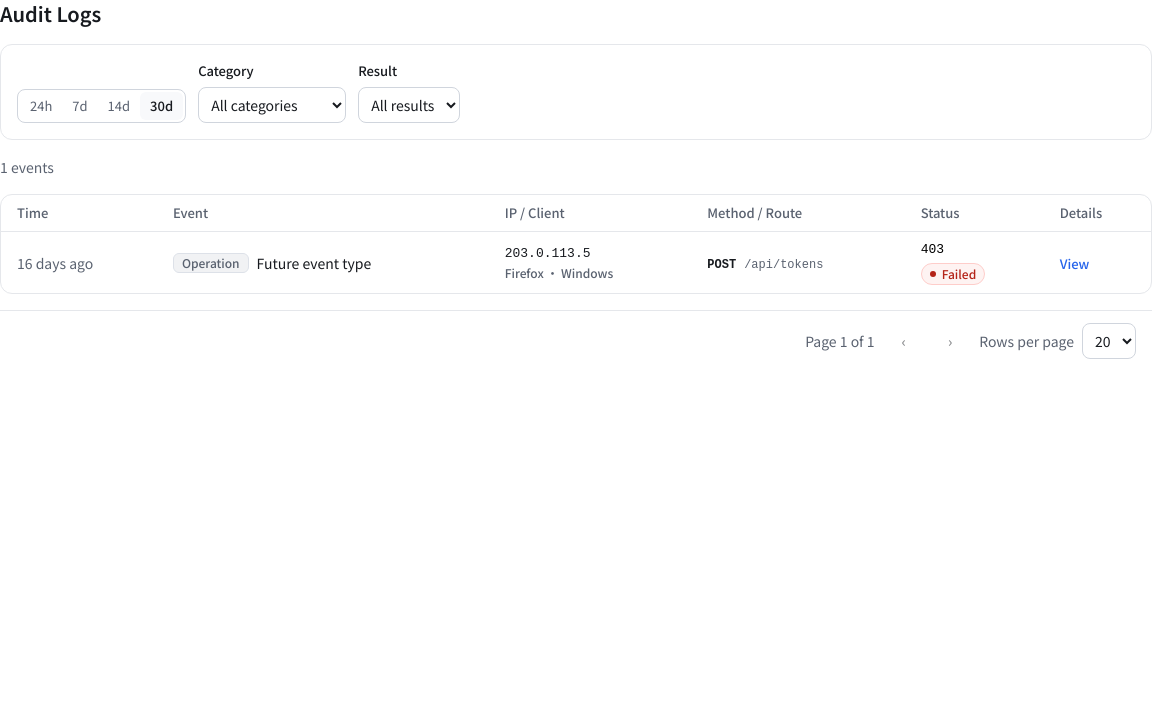
Test case: audit logs page › humanizes actions outside the frozen enum instead of crashing
This screenshot has width=1152, height=720.
Check: the text "Future event type" is shown, box [257, 252, 371, 274]
Click the button "View" at (1075, 264), box [1060, 254, 1089, 274]
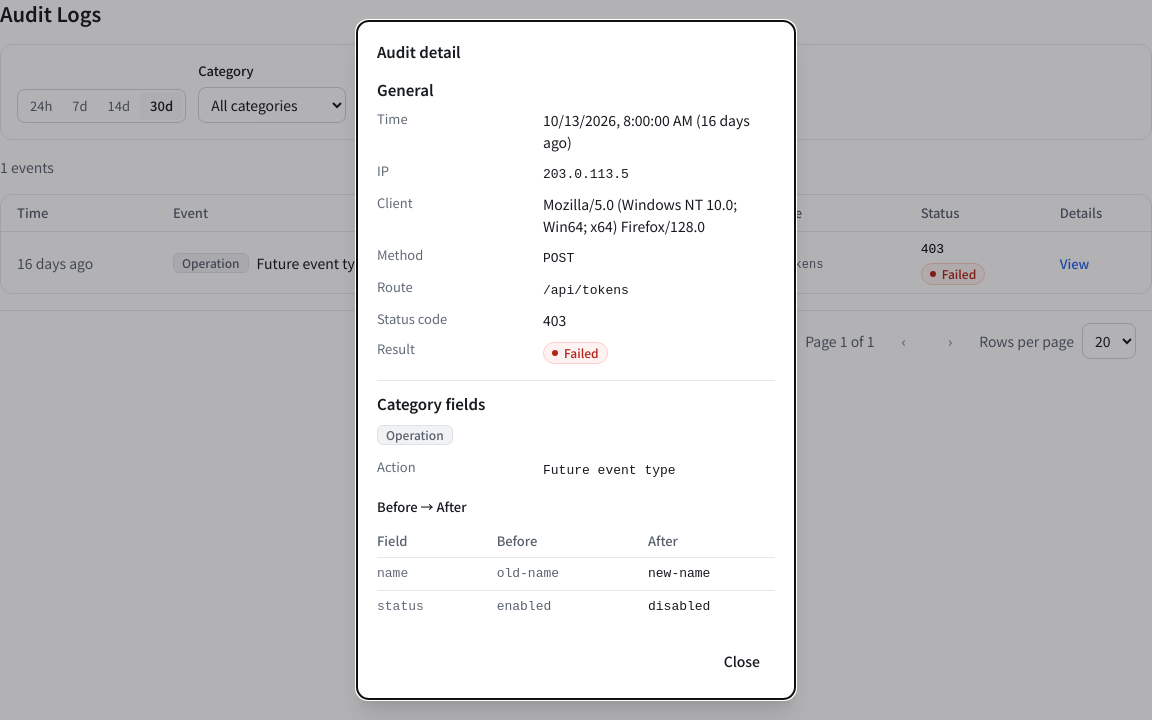
Check: the text "Future event type" is shown, box [543, 463, 676, 478]
